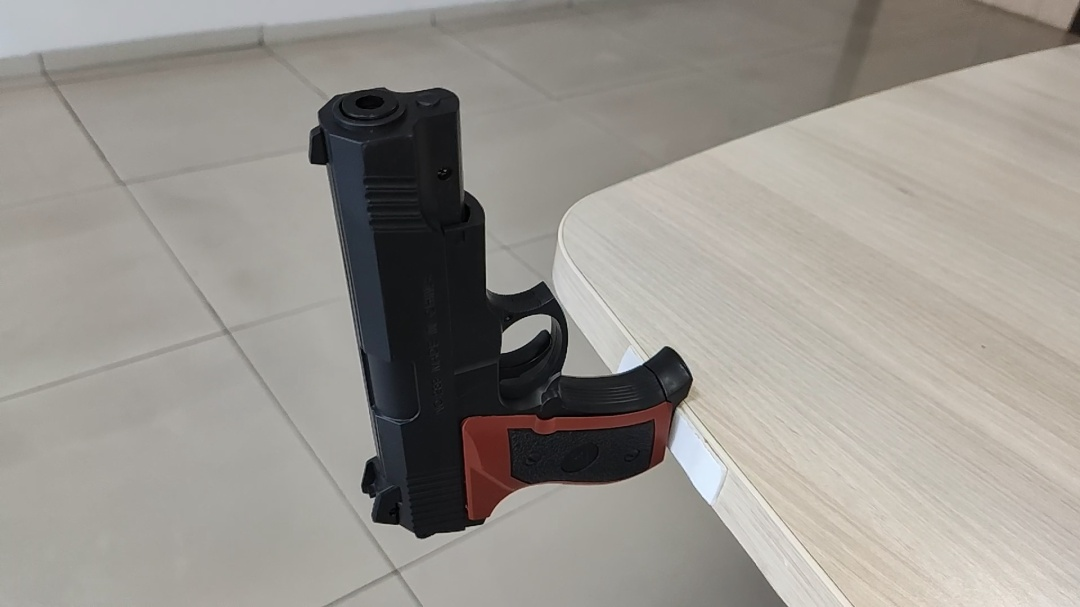gun: (307, 84, 694, 537)
